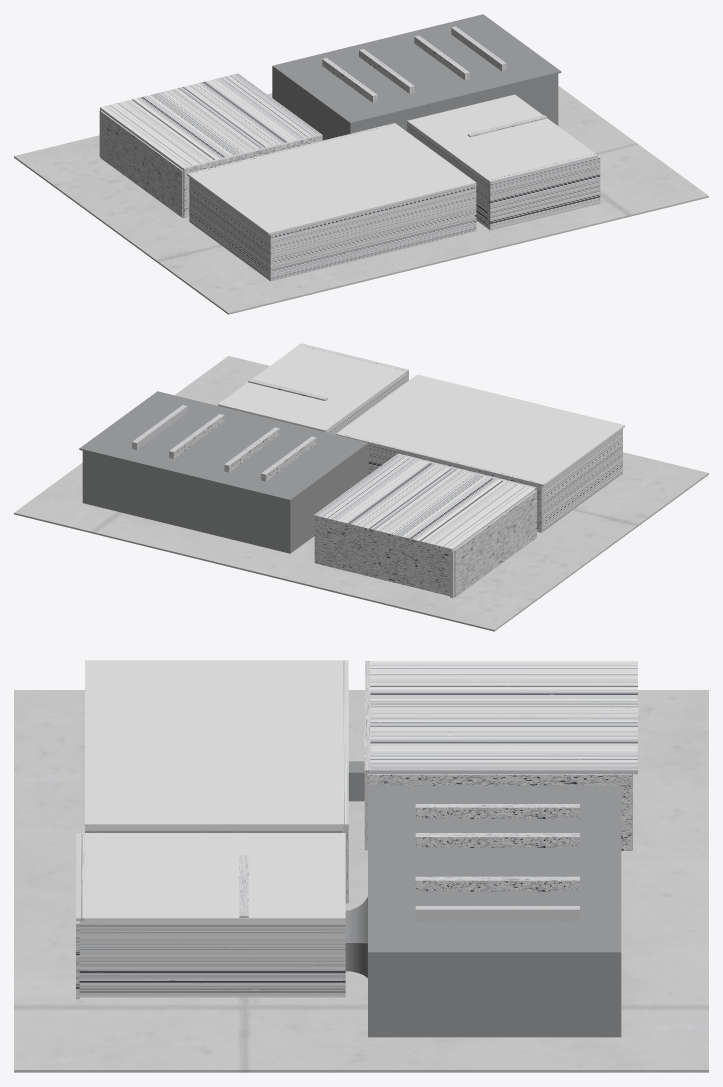
File: lvl1 mapping.fbx
3 views of the same model, one above another, from view 1: azimuth 30°, elevation 25°; view 2: azimuth 150°, elevation 25°; view 3: azimuth 270°, elevation 25° (orthographic). The views are drawn at different scales.
Visible parts, largest first — view 1: Cube.016, Cube.047, Cube.050, Cube.060, Cube.061, Cube.051, Cube.048, Cube.045, Cube.044, Cube.070, Cube.071, Cube.069 (+1 smaller); view 2: Cube.016, Cube.047, Cube.061, Cube.050, Cube.051, Cube.048, Cube.043, Cube.060, Cube.045, Cube.044, Cube.069, Cube.070 (+2 smaller); view 3: Cube.016, Cube.047, Cube.061, Cube.050, Cube.051, Cube.048, Cube.042, Cube.044, Cube.071, Cube.069, Cube.070, Cube.072 (+1 smaller).
Part boxes in pixels (<box>): Cube.016: <box>14,86,708,314</box>; Cube.047: <box>187,123,476,234</box>; Cube.050: <box>272,14,561,124</box>; Cube.060: <box>189,177,476,281</box>; Cube.061: <box>272,67,600,230</box>; Cube.051: <box>100,73,320,169</box>; Cube.048: <box>407,94,597,183</box>; Cube.045: <box>100,111,182,217</box>; Cube.044: <box>182,134,322,217</box>; Cube.070: <box>359,49,414,93</box>; Cube.071: <box>414,35,469,80</box>; Cube.069: <box>322,58,377,102</box>; Cube.016: <box>14,356,708,631</box>; Cube.047: <box>336,374,624,486</box>; Cube.061: <box>82,345,408,553</box>; Cube.050: <box>79,391,368,501</box>; Cube.051: <box>314,454,534,550</box>; Cube.048: <box>218,343,408,432</box>; Cube.043: <box>315,518,449,596</box>; Cube.060: <box>368,429,622,532</box>; Cube.045: <box>454,490,536,597</box>; Cube.044: <box>314,453,536,551</box>; Cube.069: <box>261,436,316,481</box>; Cube.070: <box>224,427,279,472</box>; Cube.016: <box>14,690,708,1072</box>; Cube.047: <box>85,660,348,827</box>; Cube.061: <box>76,897,621,1037</box>; Cube.050: <box>368,785,621,954</box>; Cube.051: <box>370,661,637,770</box>; Cube.048: <box>76,833,345,921</box>; Cube.042: <box>367,774,632,850</box>; Cube.044: <box>353,661,637,850</box>; Cube.071: <box>415,876,579,891</box>; Cube.069: <box>415,804,579,818</box>; Cube.070: <box>415,833,579,847</box>; Cube.072: <box>415,906,579,920</box>.
Bounding box in the file's own units: 9419 × 1354 × 7283.
Materials: 7 (3 with a texture image).
